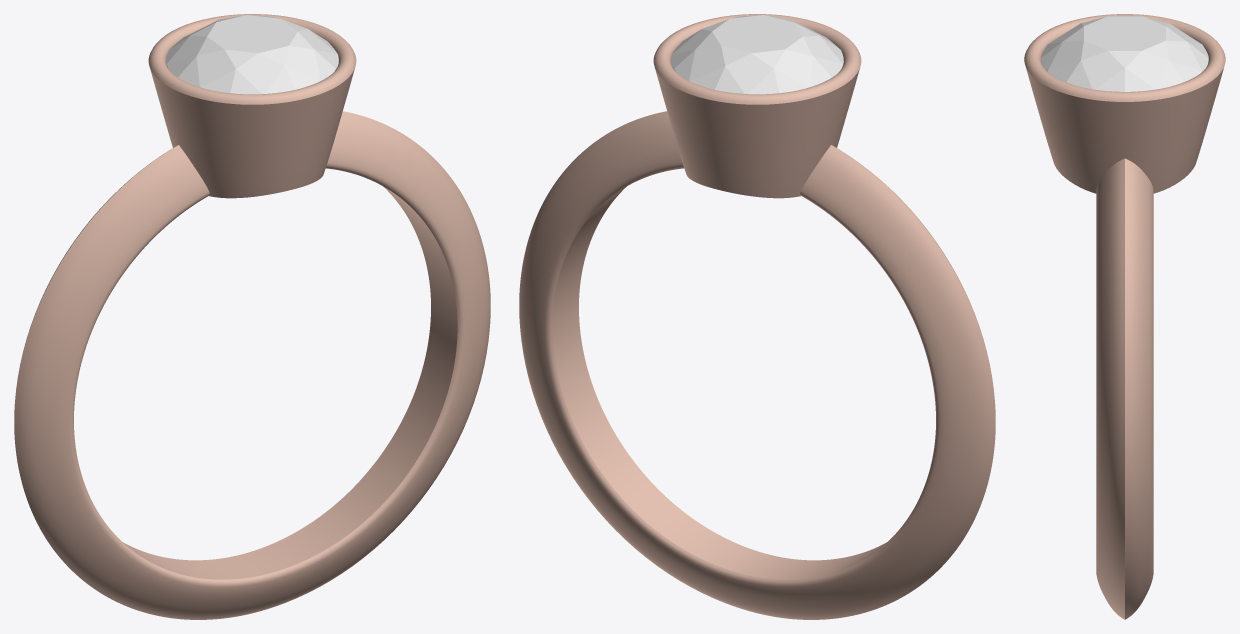
File: diamond-round-rosegold-bezelset-knifeedge-nosidestones.glb
3 views of the same model, side by side, from view 1: azimuth 30°, elevation 25°; view 2: azimuth 150°, elevation 25°; view 3: azimuth 270°, elevation 25° (orthographic). The views are drawn at different scales.
Visible parts, largest first — view 1: metal, stone; view 2: metal, stone; view 3: metal, stone.
Part boxes in pixels (x1,y1,x2,y2): metal: [14, 14, 490, 619]; stone: [166, 15, 338, 94]; metal: [519, 14, 995, 619]; stone: [671, 15, 843, 94]; metal: [1024, 14, 1225, 619]; stone: [1041, 15, 1208, 91].
Size of the model in its own units: 20.51 by 23.81 by 7.74.
